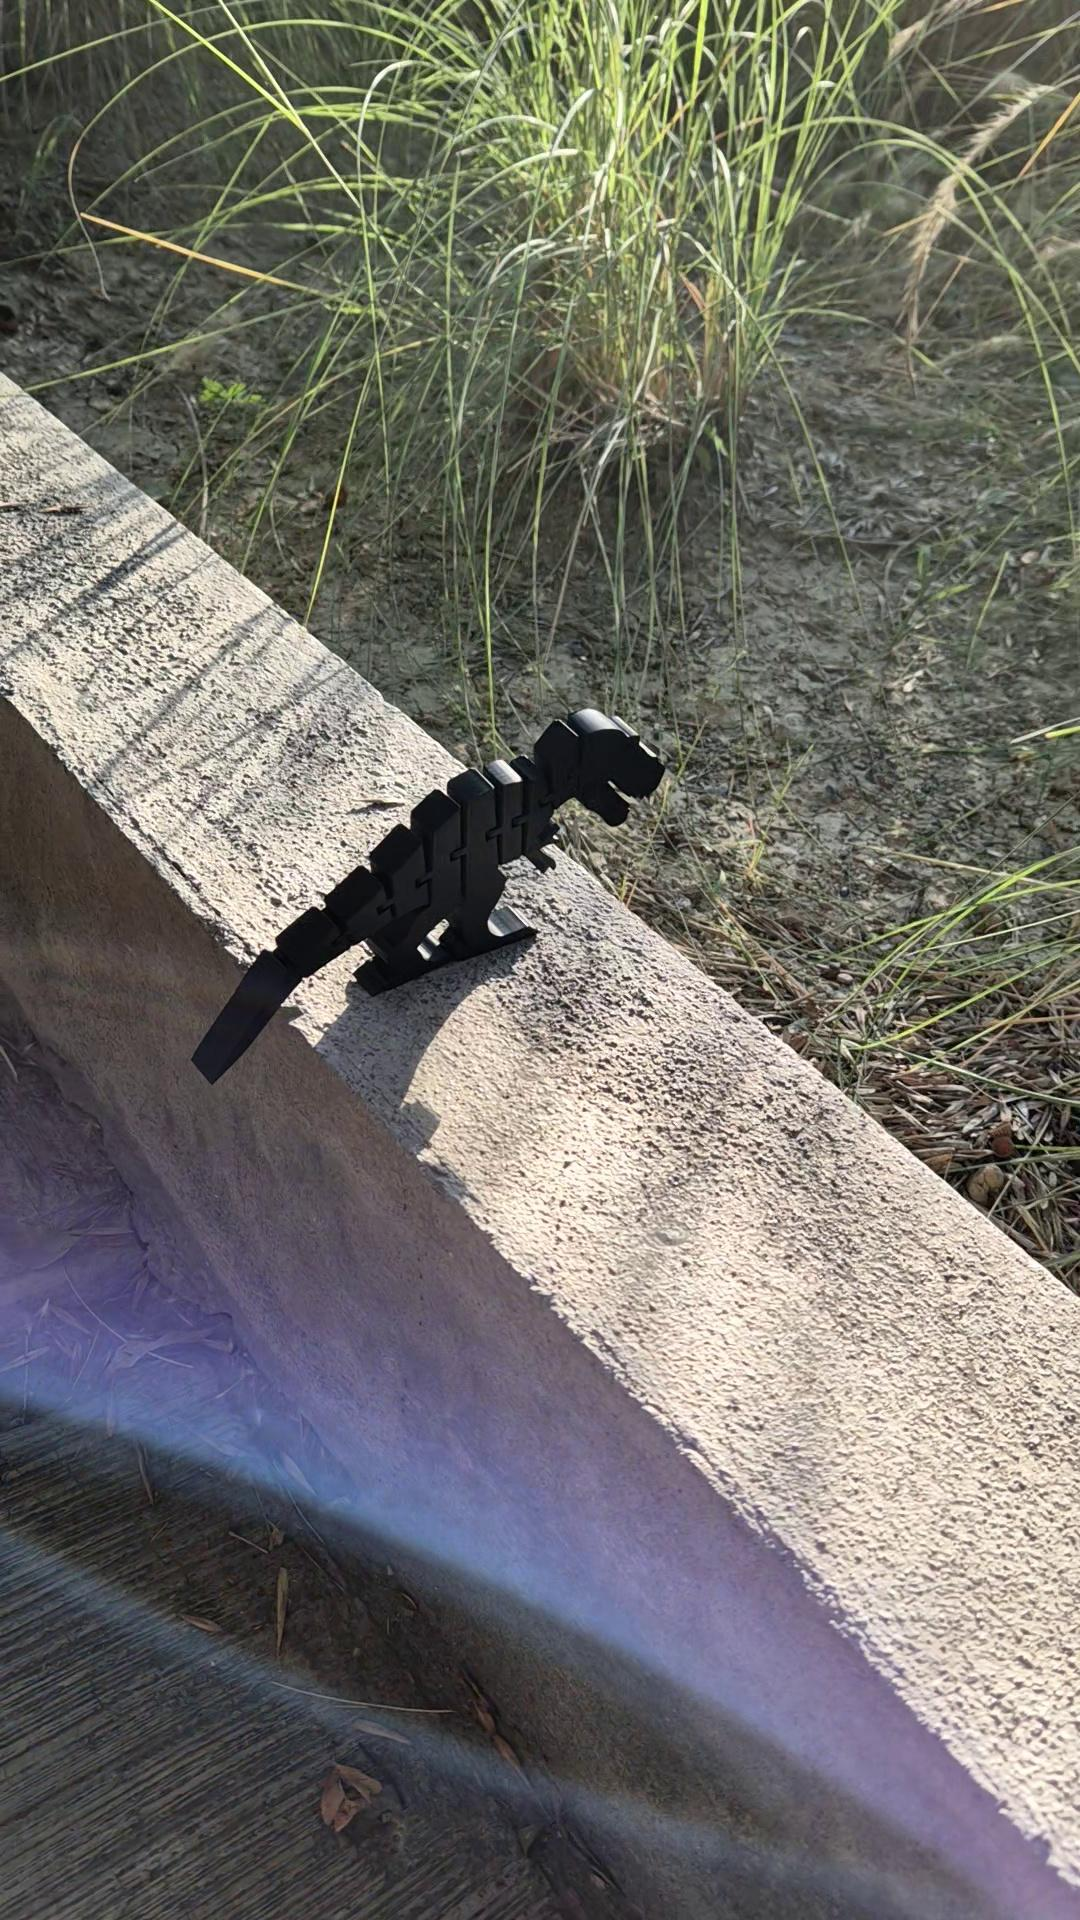dinosaur: (187, 707, 669, 1088)
